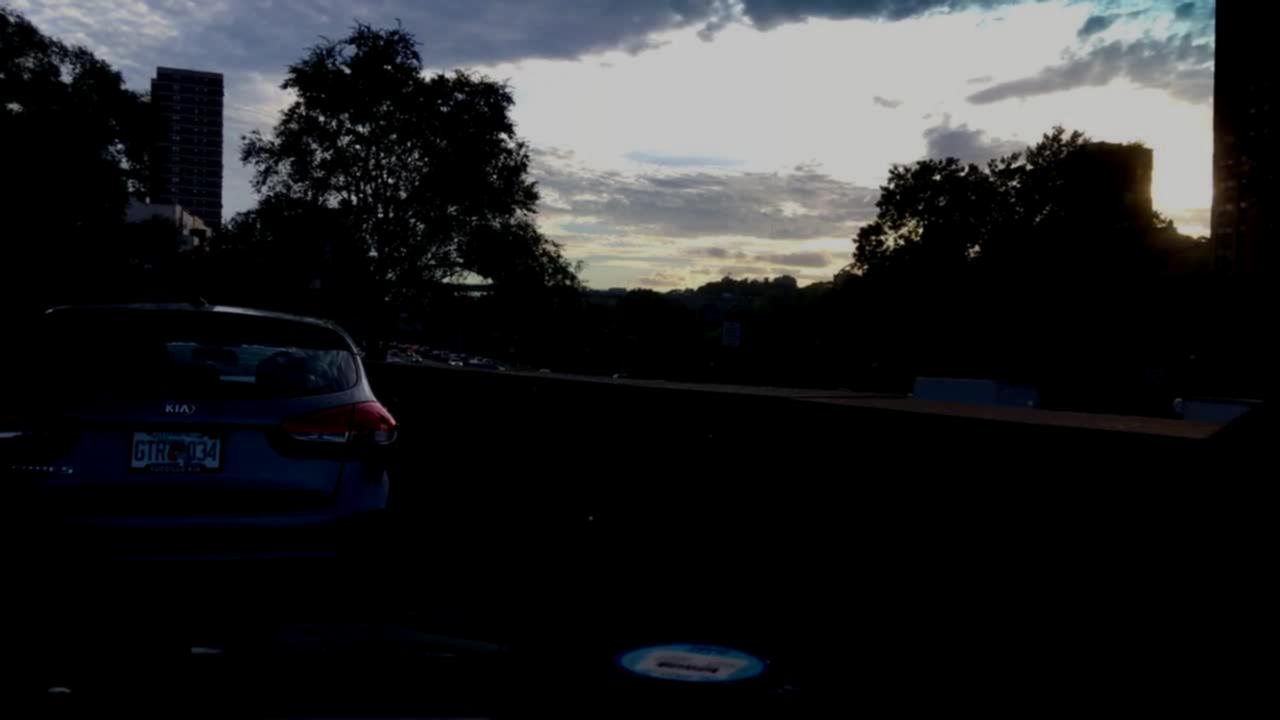kia: (157, 396, 199, 420)
